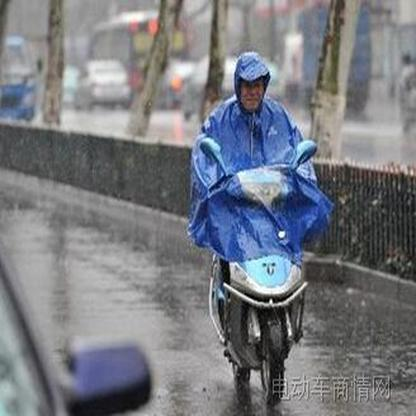target: (192, 51, 330, 406)
